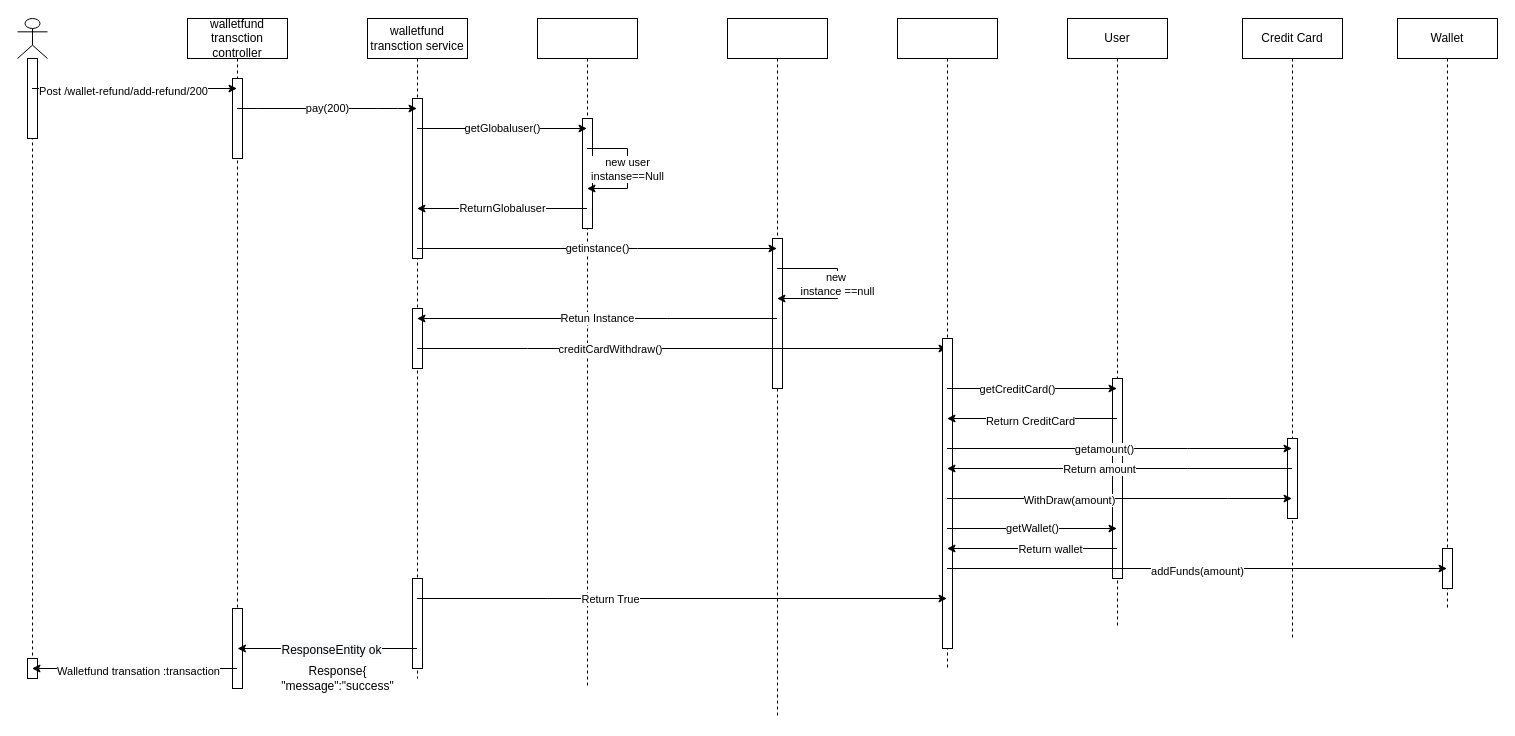
This 1515x736 diagram has some shape labels left out. Each missing label, with the box of its shape:
Global user: (536, 18, 638, 688)
Wallet funds Model: (726, 18, 828, 718)
walletfund Transaction: (896, 18, 998, 668)
